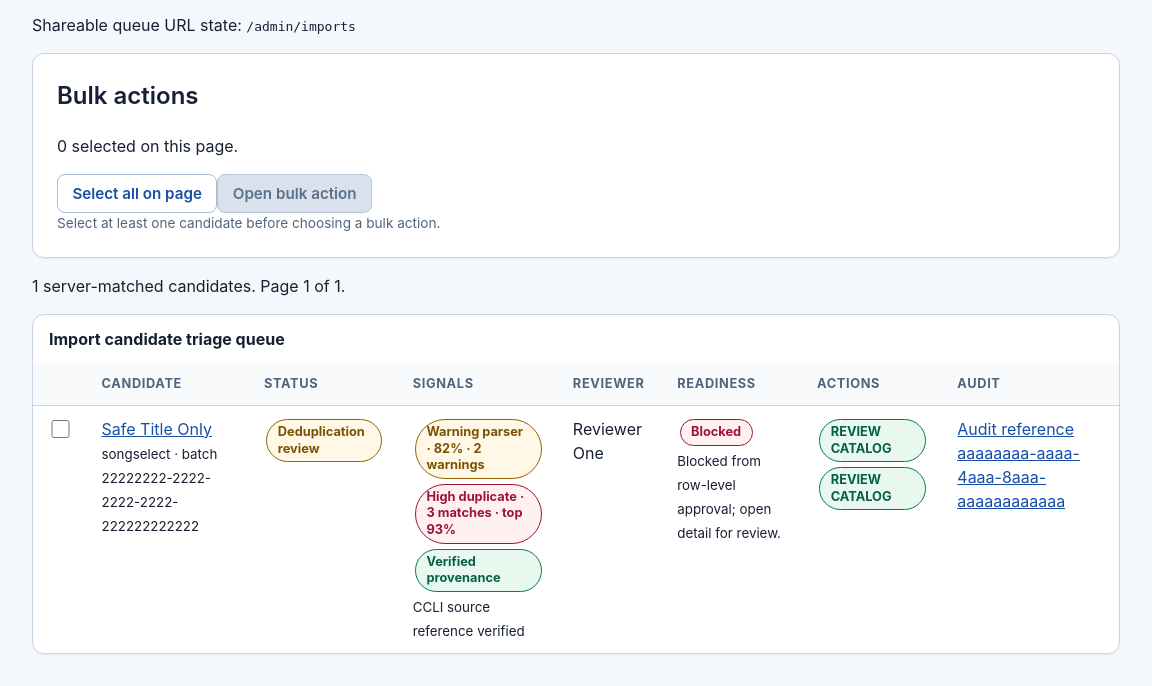
it: import candidate queue › resets selection when queue reloads after bulk action
(page scrolled)
Click the checkbox named "Select candidate Safe Title Only" at x=61, y=429, box [51, 420, 70, 438]
(page scrolled)
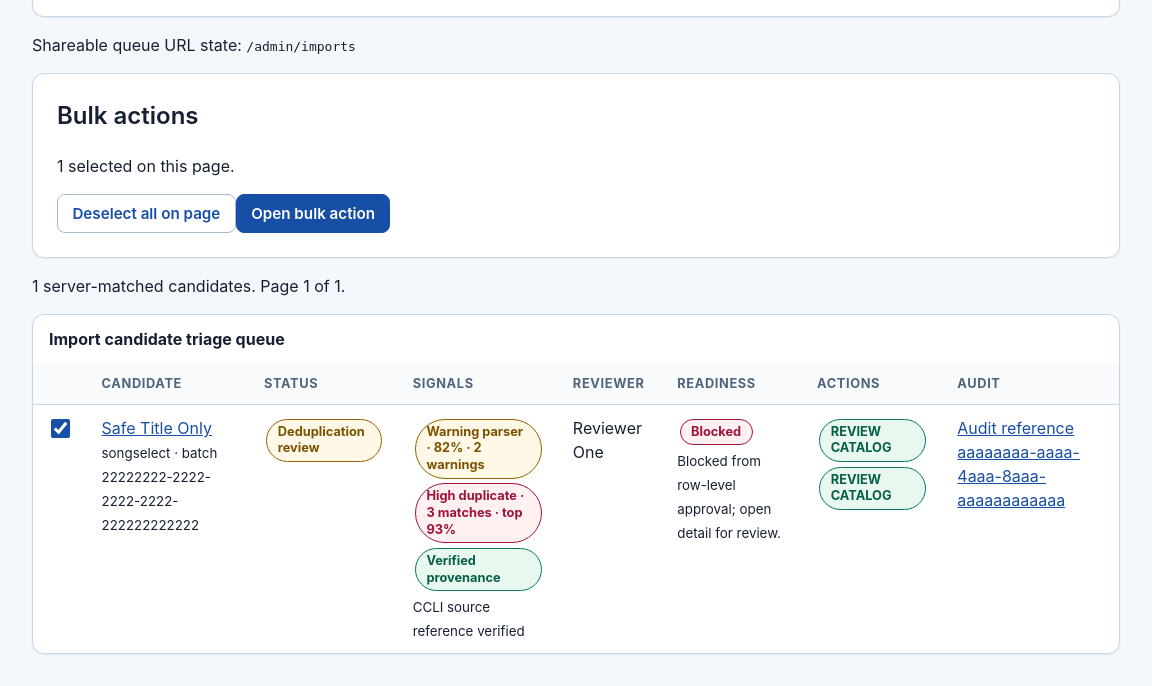
Result: the text "1 selected" is shown at [57, 156, 235, 176]
Click the button "Open bulk action" at x=313, y=213, box [236, 194, 390, 233]
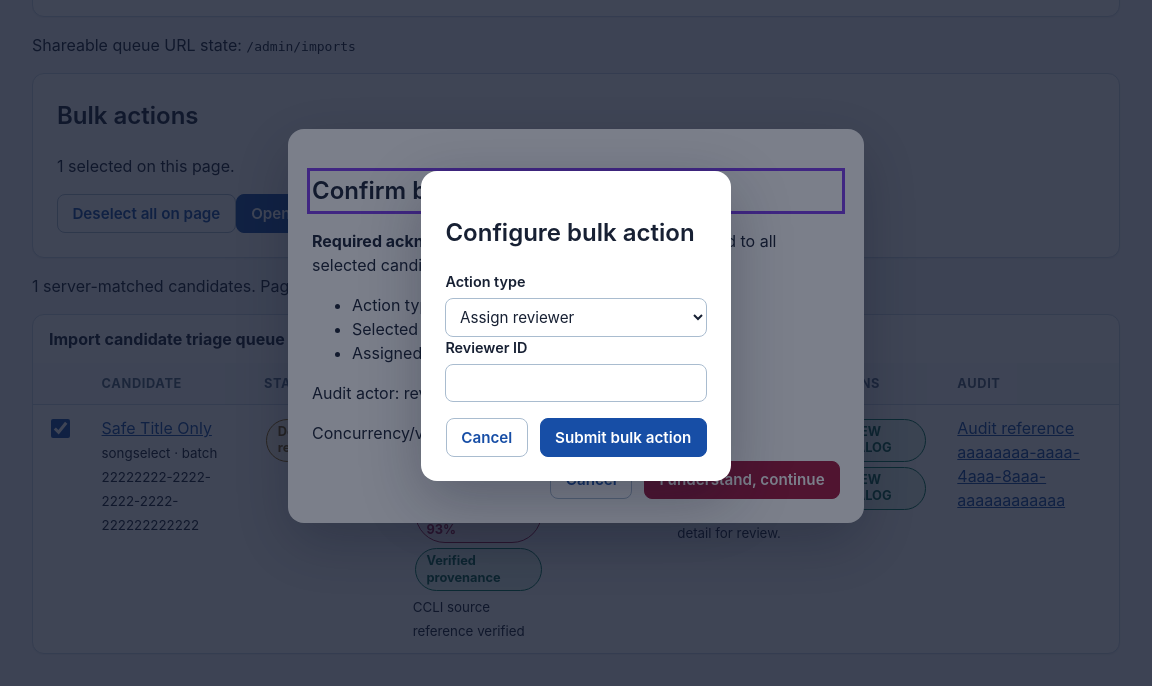
Click the button "Submit bulk action" at x=623, y=438, box [540, 418, 707, 457]
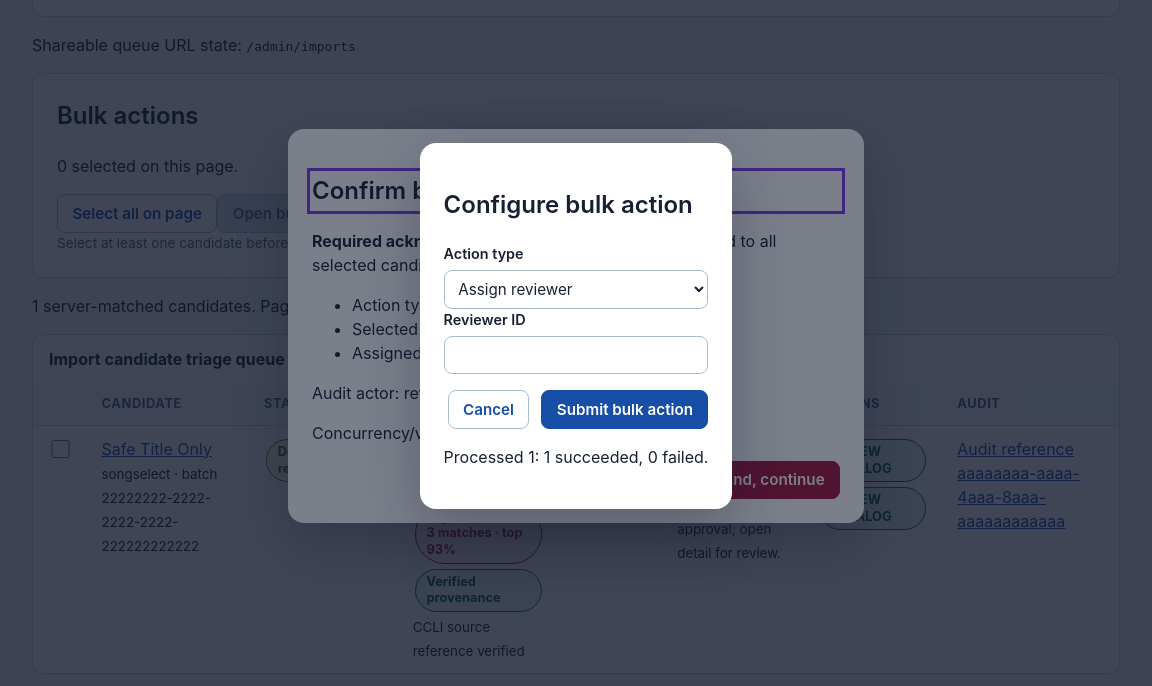
Result: the text "1 selected" is gone
